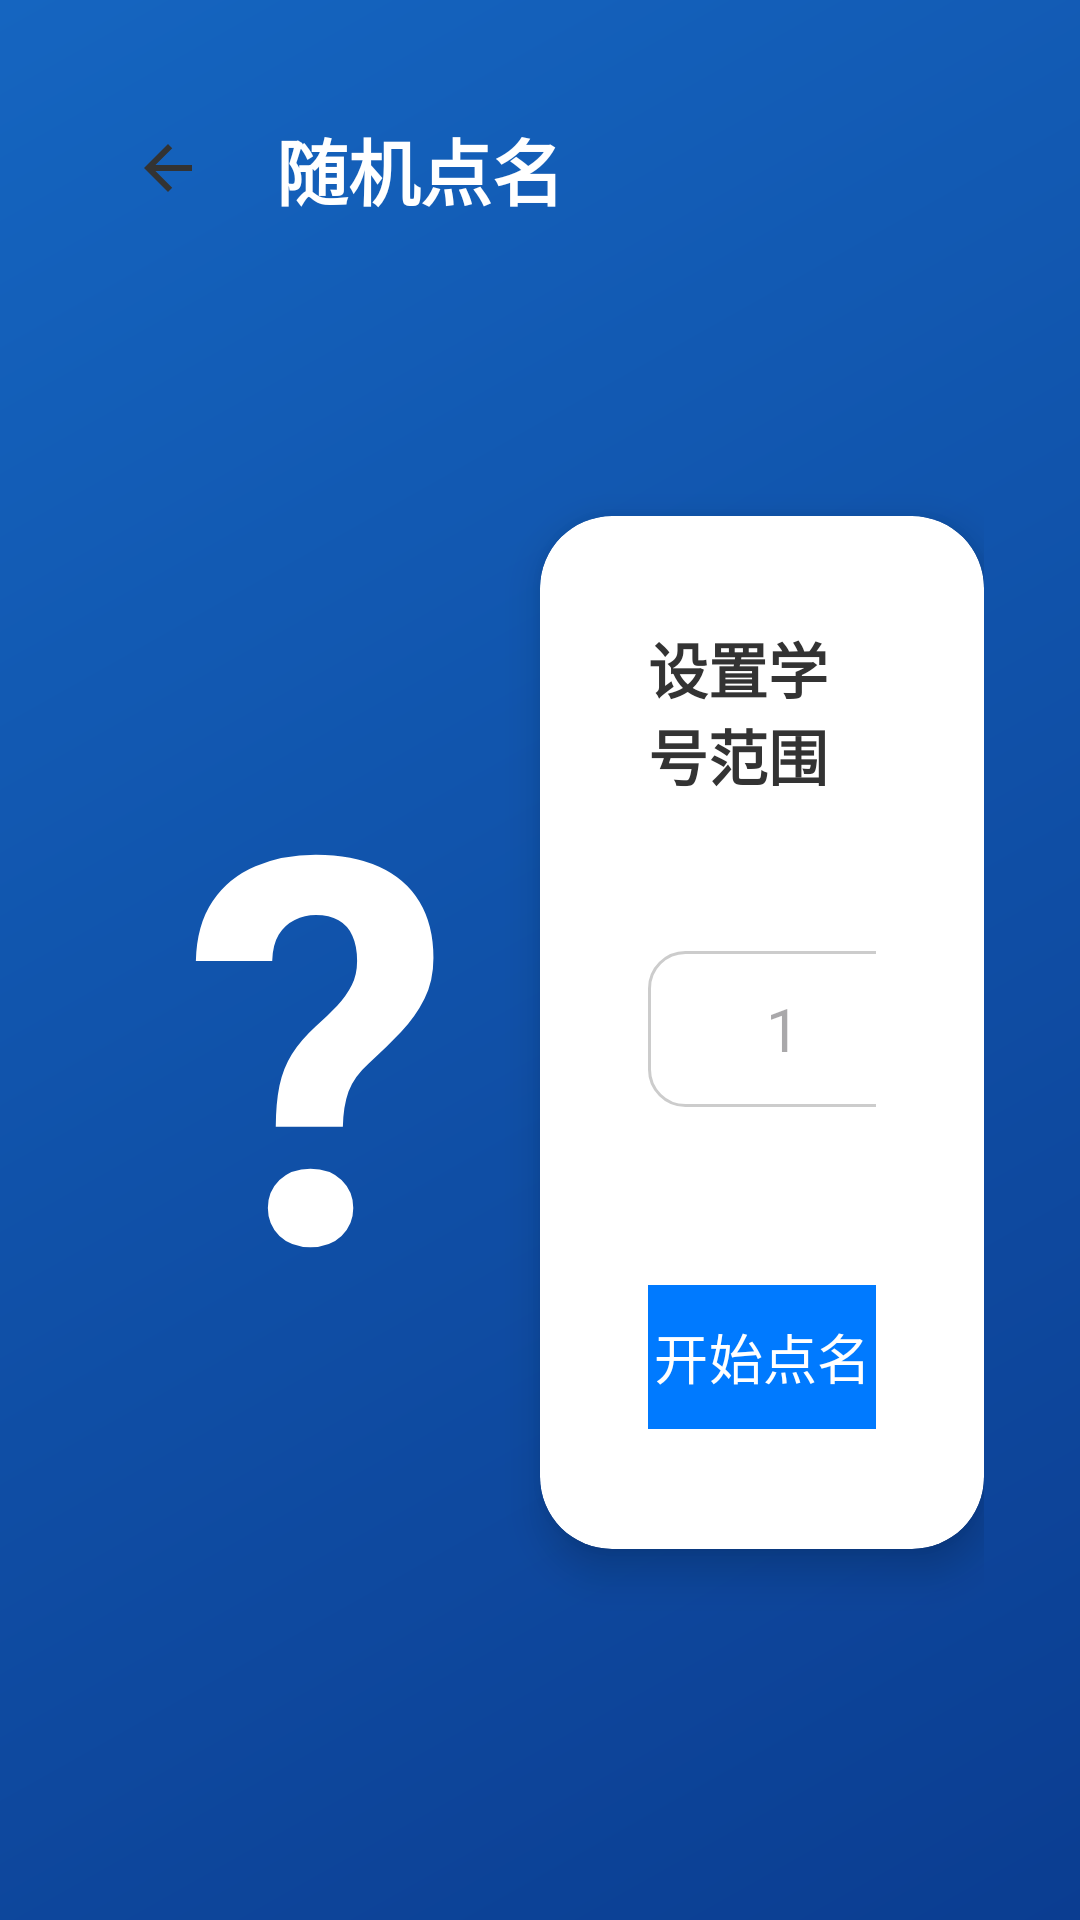

Where to tap for icons on this 1080×1920 app screen, as point (x, y):
返回: point (168, 168)
